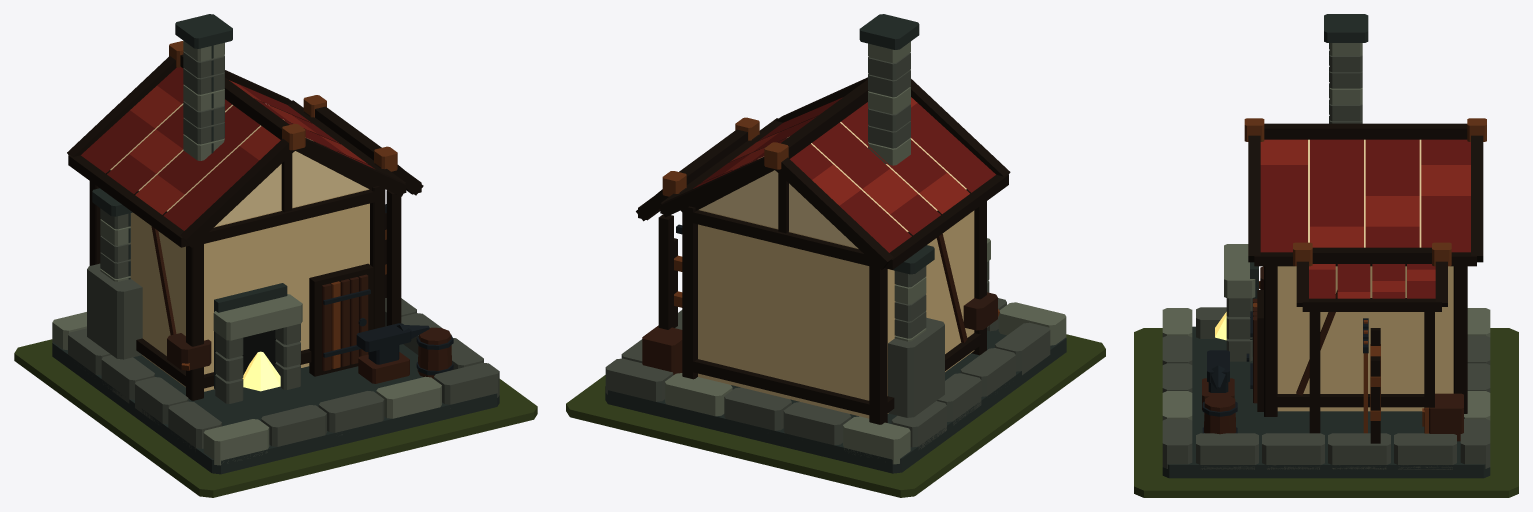
File: forge_t4.glb
The picture shows the model from 3 angles, left to right: view 1: azimuth 30°, elevation 25°; view 2: azimuth 150°, elevation 25°; view 3: azimuth 270°, elevation 25°; orthographic projection. The views are drawn at different scales.
Visible parts, largest first — view 1: MMR | forge | T04 Architecture.001, MMR | forge | Tier 04 Ground.001; view 2: MMR | forge | T04 Architecture.001, MMR | forge | Tier 04 Ground.001; view 3: MMR | forge | T04 Architecture.001, MMR | forge | Tier 04 Ground.001.
Boxes of the visible parts, <box> form: MMR | forge | T04 Architecture.001: <box>52,14,499,474</box>; MMR | forge | Tier 04 Ground.001: <box>14,339,537,497</box>; MMR | forge | T04 Architecture.001: <box>605,14,1066,473</box>; MMR | forge | Tier 04 Ground.001: <box>566,334,1105,497</box>; MMR | forge | T04 Architecture.001: <box>1162,14,1490,478</box>; MMR | forge | Tier 04 Ground.001: <box>1134,328,1518,497</box>.
Size of the model in its own units: 2.35 by 2.45 by 2.35.
Materials: 2 (1 with a texture image).
